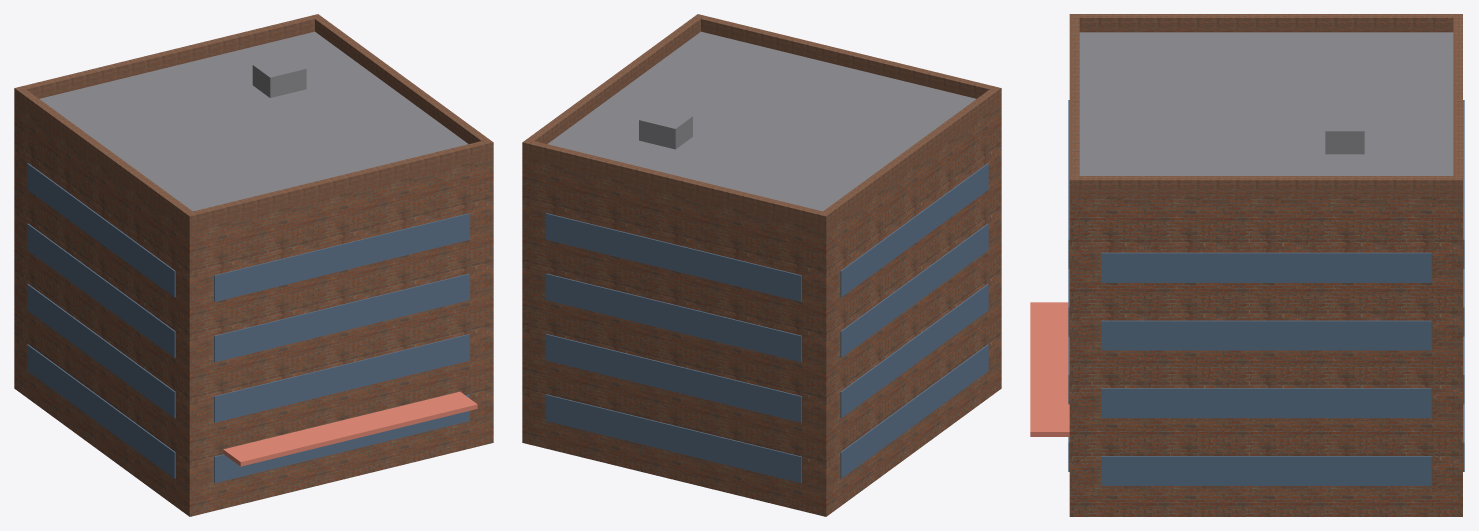
The model's file is building_tower_med.glb.
3 renders of one model, left to right at view 1: azimuth 30°, elevation 25°; view 2: azimuth 150°, elevation 25°; view 3: azimuth 270°, elevation 25°, orthographic. The views are drawn at different scales.
Visible parts, largest first — view 1: TowerRoot; view 2: TowerRoot; view 3: TowerRoot.
Boxes of the visible parts, x1,y1,x2,y2 form: TowerRoot: [14, 14, 493, 516]; TowerRoot: [522, 14, 1001, 516]; TowerRoot: [1030, 14, 1464, 516].
Size of the model in its own units: 20.16 by 19.4 by 22.08.
4 materials, 1 textured.
